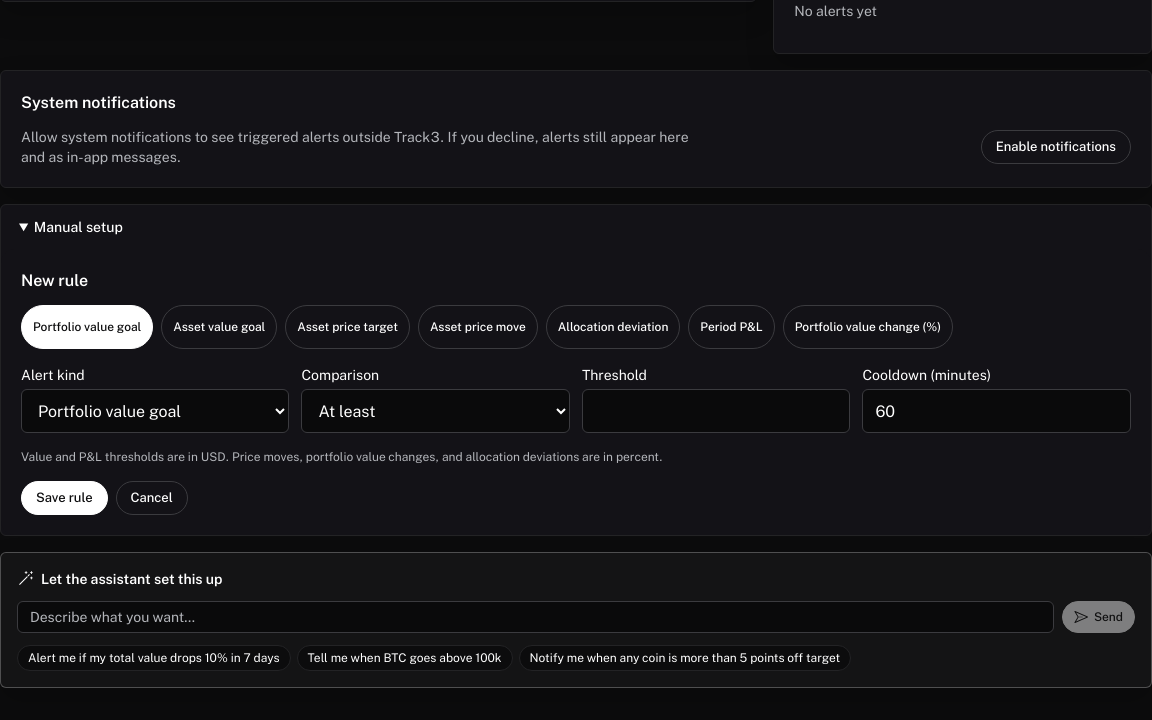
it: does not turn the inline editor into a drawer after the first rule is saved
(page scrolled)
Type "1000" into the number field labelled "Threshold" at (716, 411), box [582, 389, 850, 433]
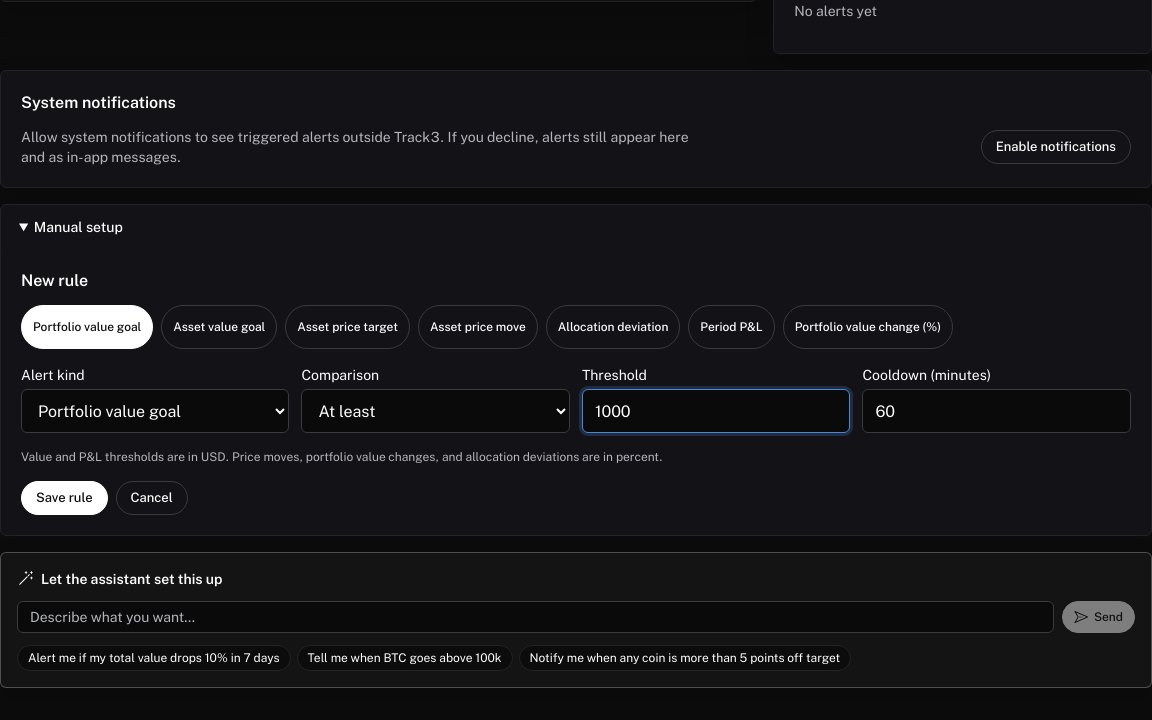
Click the button "Save rule" at (64, 498), box [21, 481, 108, 515]
(page scrolled)
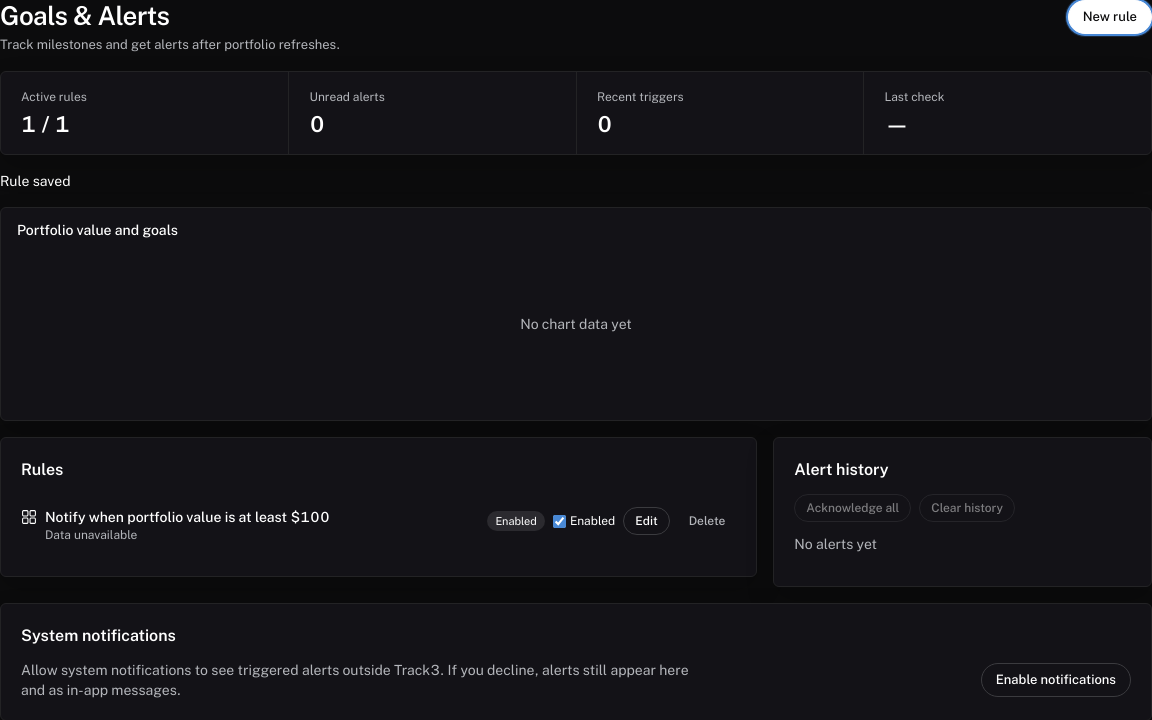
Now the button "Edit" is shown, box [623, 507, 670, 535]
